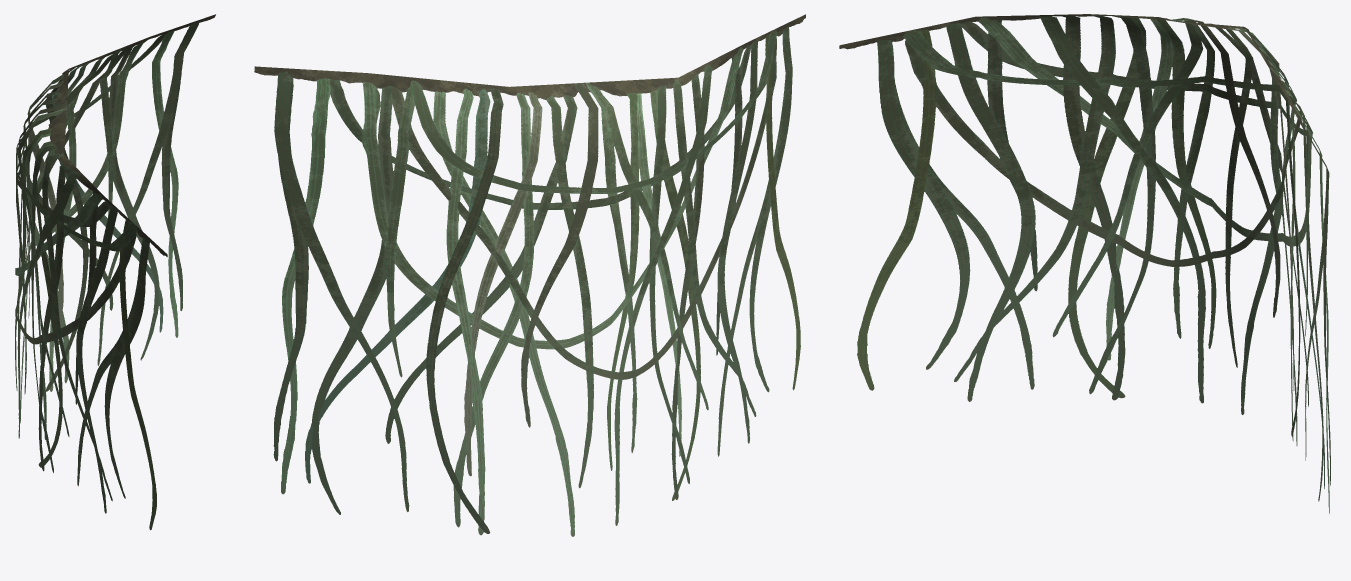
Rendered from lianes_02.FBX.
3 renders of one model, left to right at view 1: azimuth 30°, elevation 25°; view 2: azimuth 150°, elevation 25°; view 3: azimuth 270°, elevation 25°, orthographic. The views are drawn at different scales.
Visible parts, largest first — view 1: Shape001; view 2: Shape001; view 3: Shape001.
Part boxes in pixels (x1,y1,x2,y2): Shape001: (15, 14, 215, 530); Shape001: (254, 14, 805, 536); Shape001: (839, 14, 1330, 513).
Size of the model in its own units: 196 by 265 by 272.
Materials: 1 (1 with a texture image).
